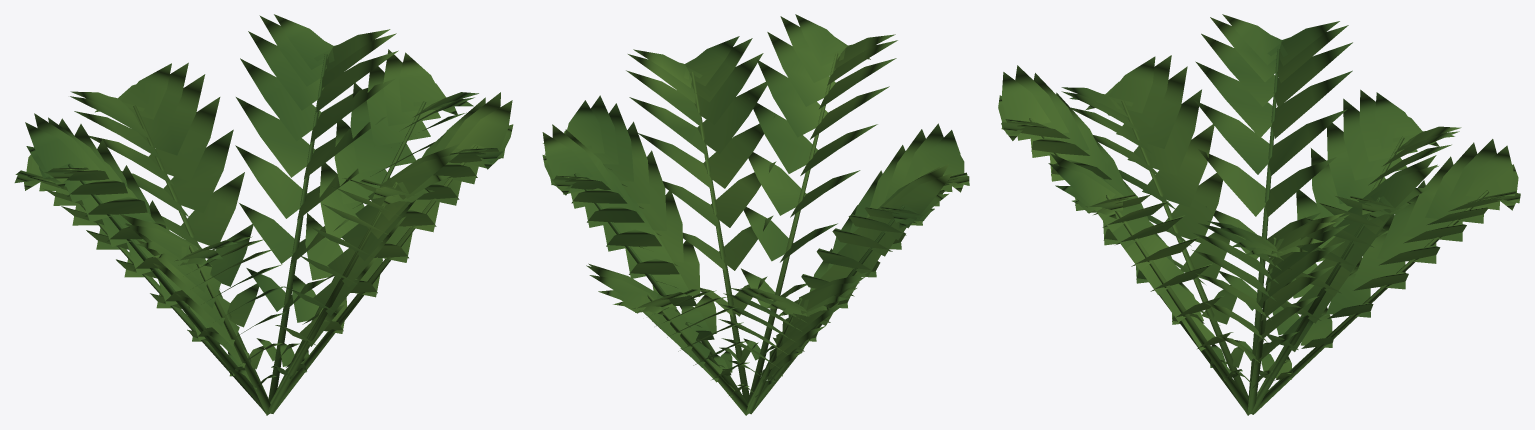
The model's file is fern_clump_b.glb.
3 views of the same model, side by side, from view 1: azimuth 30°, elevation 25°; view 2: azimuth 150°, elevation 25°; view 3: azimuth 270°, elevation 25° (orthographic). The views are drawn at different scales.
Visible parts, largest first — view 1: fern_clump_b; view 2: fern_clump_b; view 3: fern_clump_b.
Boxes of the visible parts, x1,y1,x2,y2 form: fern_clump_b: [14, 14, 513, 415]; fern_clump_b: [542, 14, 969, 415]; fern_clump_b: [998, 14, 1520, 415].
Size of the model in its own units: 1.7 by 1.33 by 1.92.
